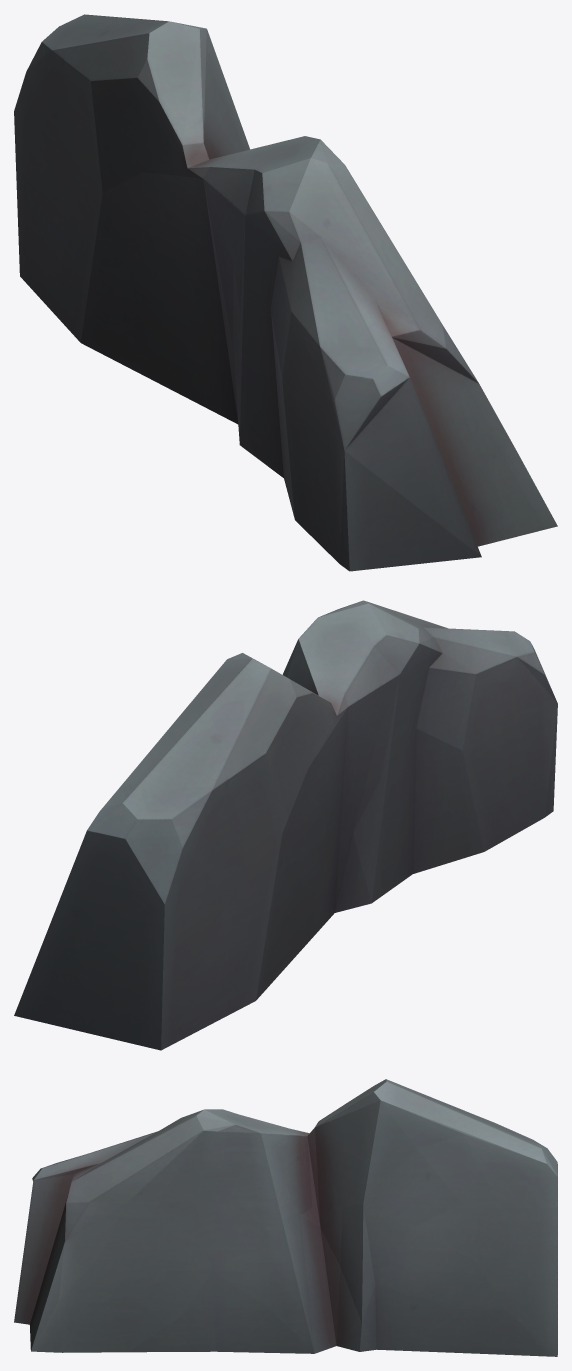
File: SM_BreakableWall.fbx
The picture shows the model from 3 angles, top to bottom: view 1: azimuth 30°, elevation 25°; view 2: azimuth 150°, elevation 25°; view 3: azimuth 270°, elevation 25°; orthographic projection. The views are drawn at different scales.
Visible parts, largest first — view 1: SM_Ramp02; view 2: SM_Ramp02; view 3: SM_Ramp02.
Boxes of the visible parts, <box> form: SM_Ramp02: <box>14,14,557,571</box>; SM_Ramp02: <box>14,600,557,1050</box>; SM_Ramp02: <box>14,1079,557,1356</box>.
Bounding box in the file's own units: 2.14 × 3.12 × 6.69.
